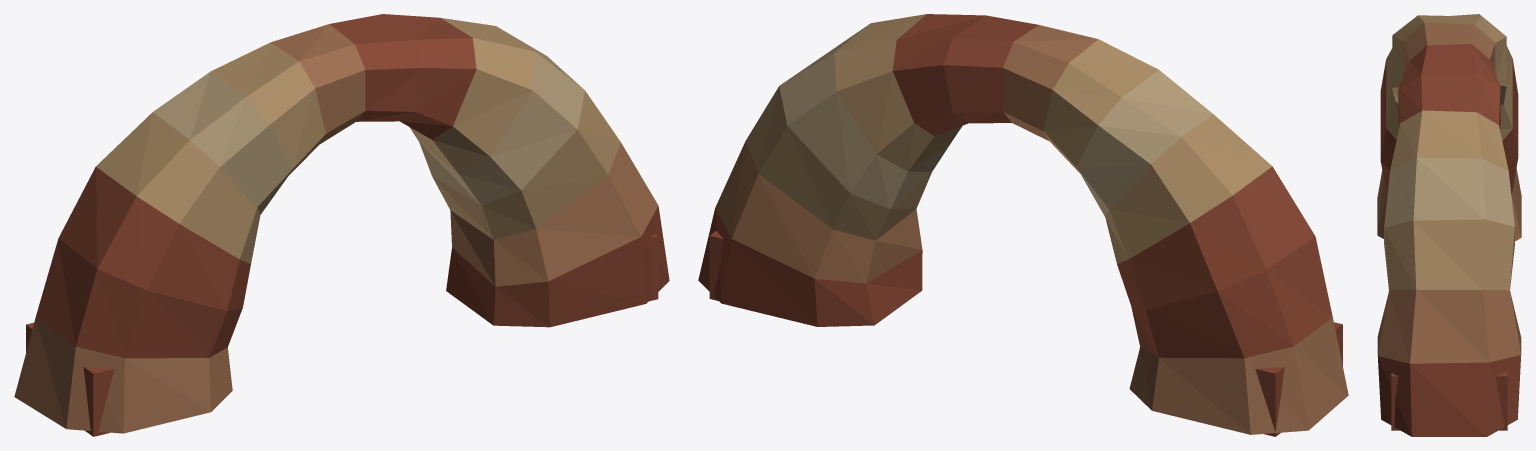
Rendered from moab_arch.glb.
3 renders of one model, left to right at view 1: azimuth 30°, elevation 25°; view 2: azimuth 150°, elevation 25°; view 3: azimuth 270°, elevation 25°, orthographic. The views are drawn at different scales.
Visible parts, largest first — view 1: MoabArch; view 2: MoabArch; view 3: MoabArch.
Boxes of the visible parts, box(x1,y1,x2,y2) form: MoabArch: box(14, 14, 669, 436); MoabArch: box(698, 14, 1348, 436); MoabArch: box(1377, 14, 1521, 436).
Bounding box in the file's own units: 32.42 × 15.73 × 7.69.
